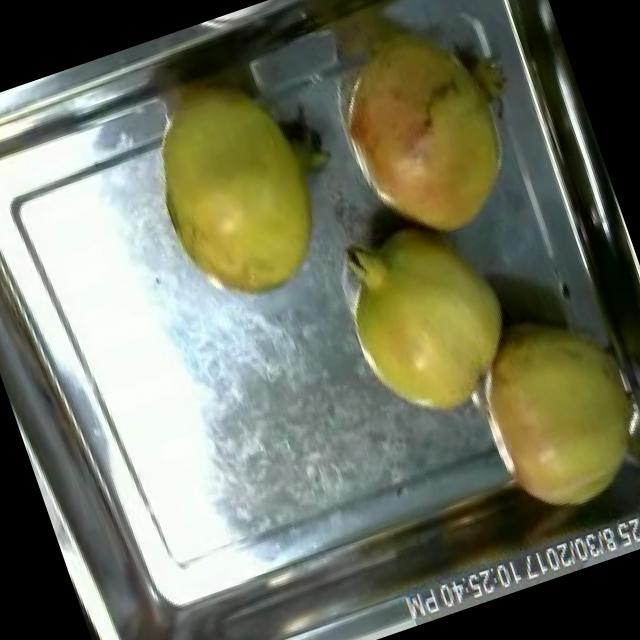fruit: (116, 42, 356, 333), (304, 0, 546, 267), (313, 191, 542, 448), (448, 289, 640, 536)
